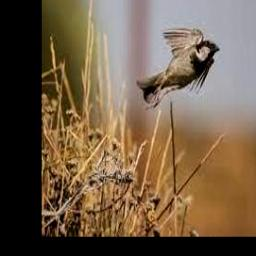Sparrow: (136, 27, 219, 110)
